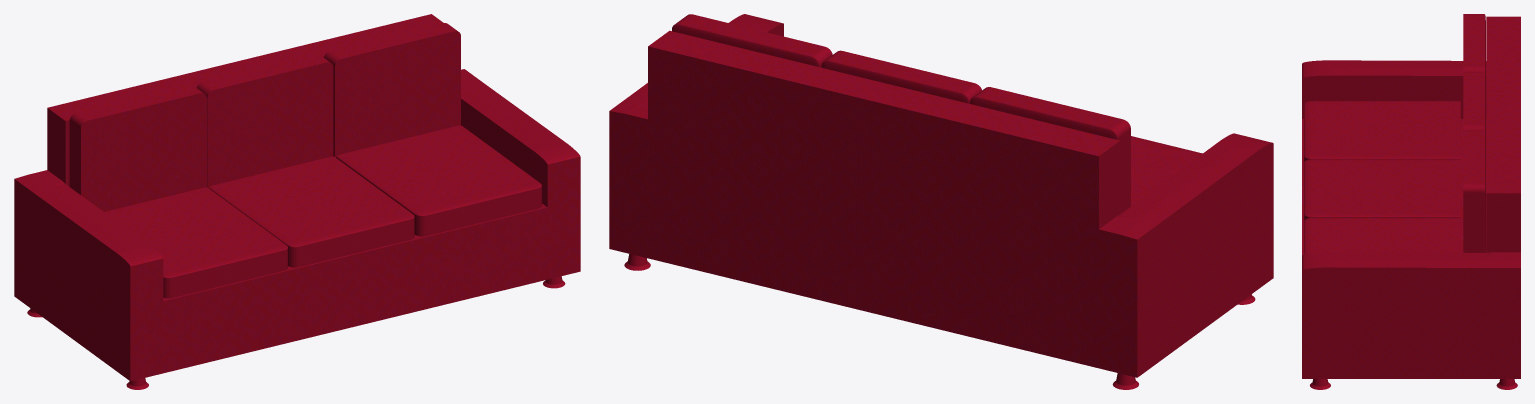
File: sofa1.fbx
3 views of the same model, side by side, from view 1: azimuth 30°, elevation 25°; view 2: azimuth 150°, elevation 25°; view 3: azimuth 270°, elevation 25° (orthographic). The views are drawn at different scales.
Visible parts, largest first — view 1: sofa; view 2: sofa; view 3: sofa.
Part boxes in pixels (left/top/right/bottom): sofa: left=14, top=14, right=580, bottom=389; sofa: left=609, top=14, right=1273, bottom=389; sofa: left=1302, top=14, right=1520, bottom=389.
Bounding box in the file's own units: 1083 × 466 × 483.
